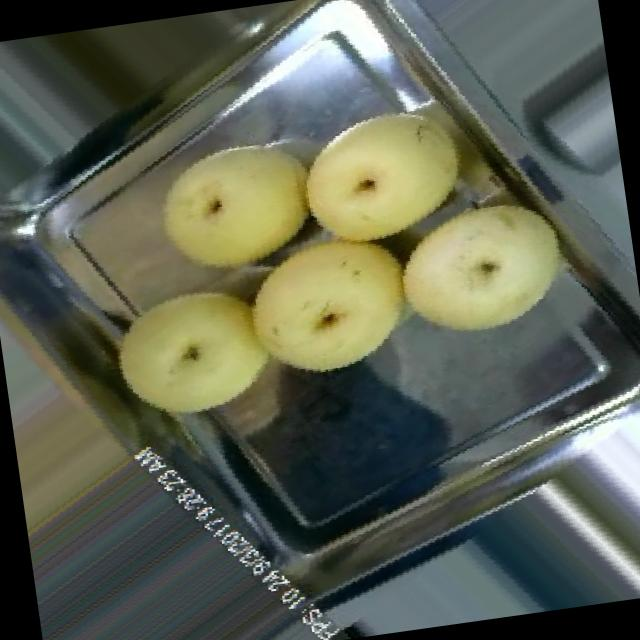Fruit: (125, 104, 344, 320), (225, 190, 436, 407), (278, 76, 498, 274), (86, 256, 302, 454), (378, 164, 590, 363)
